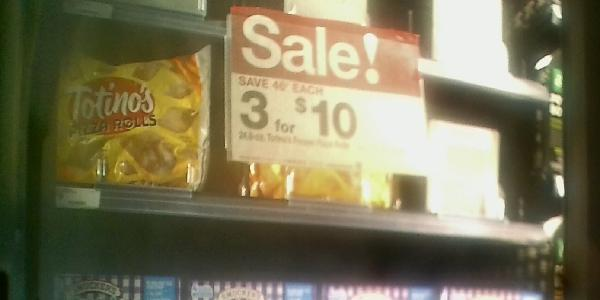icecream: (221, 40, 414, 207), (49, 47, 210, 190)
